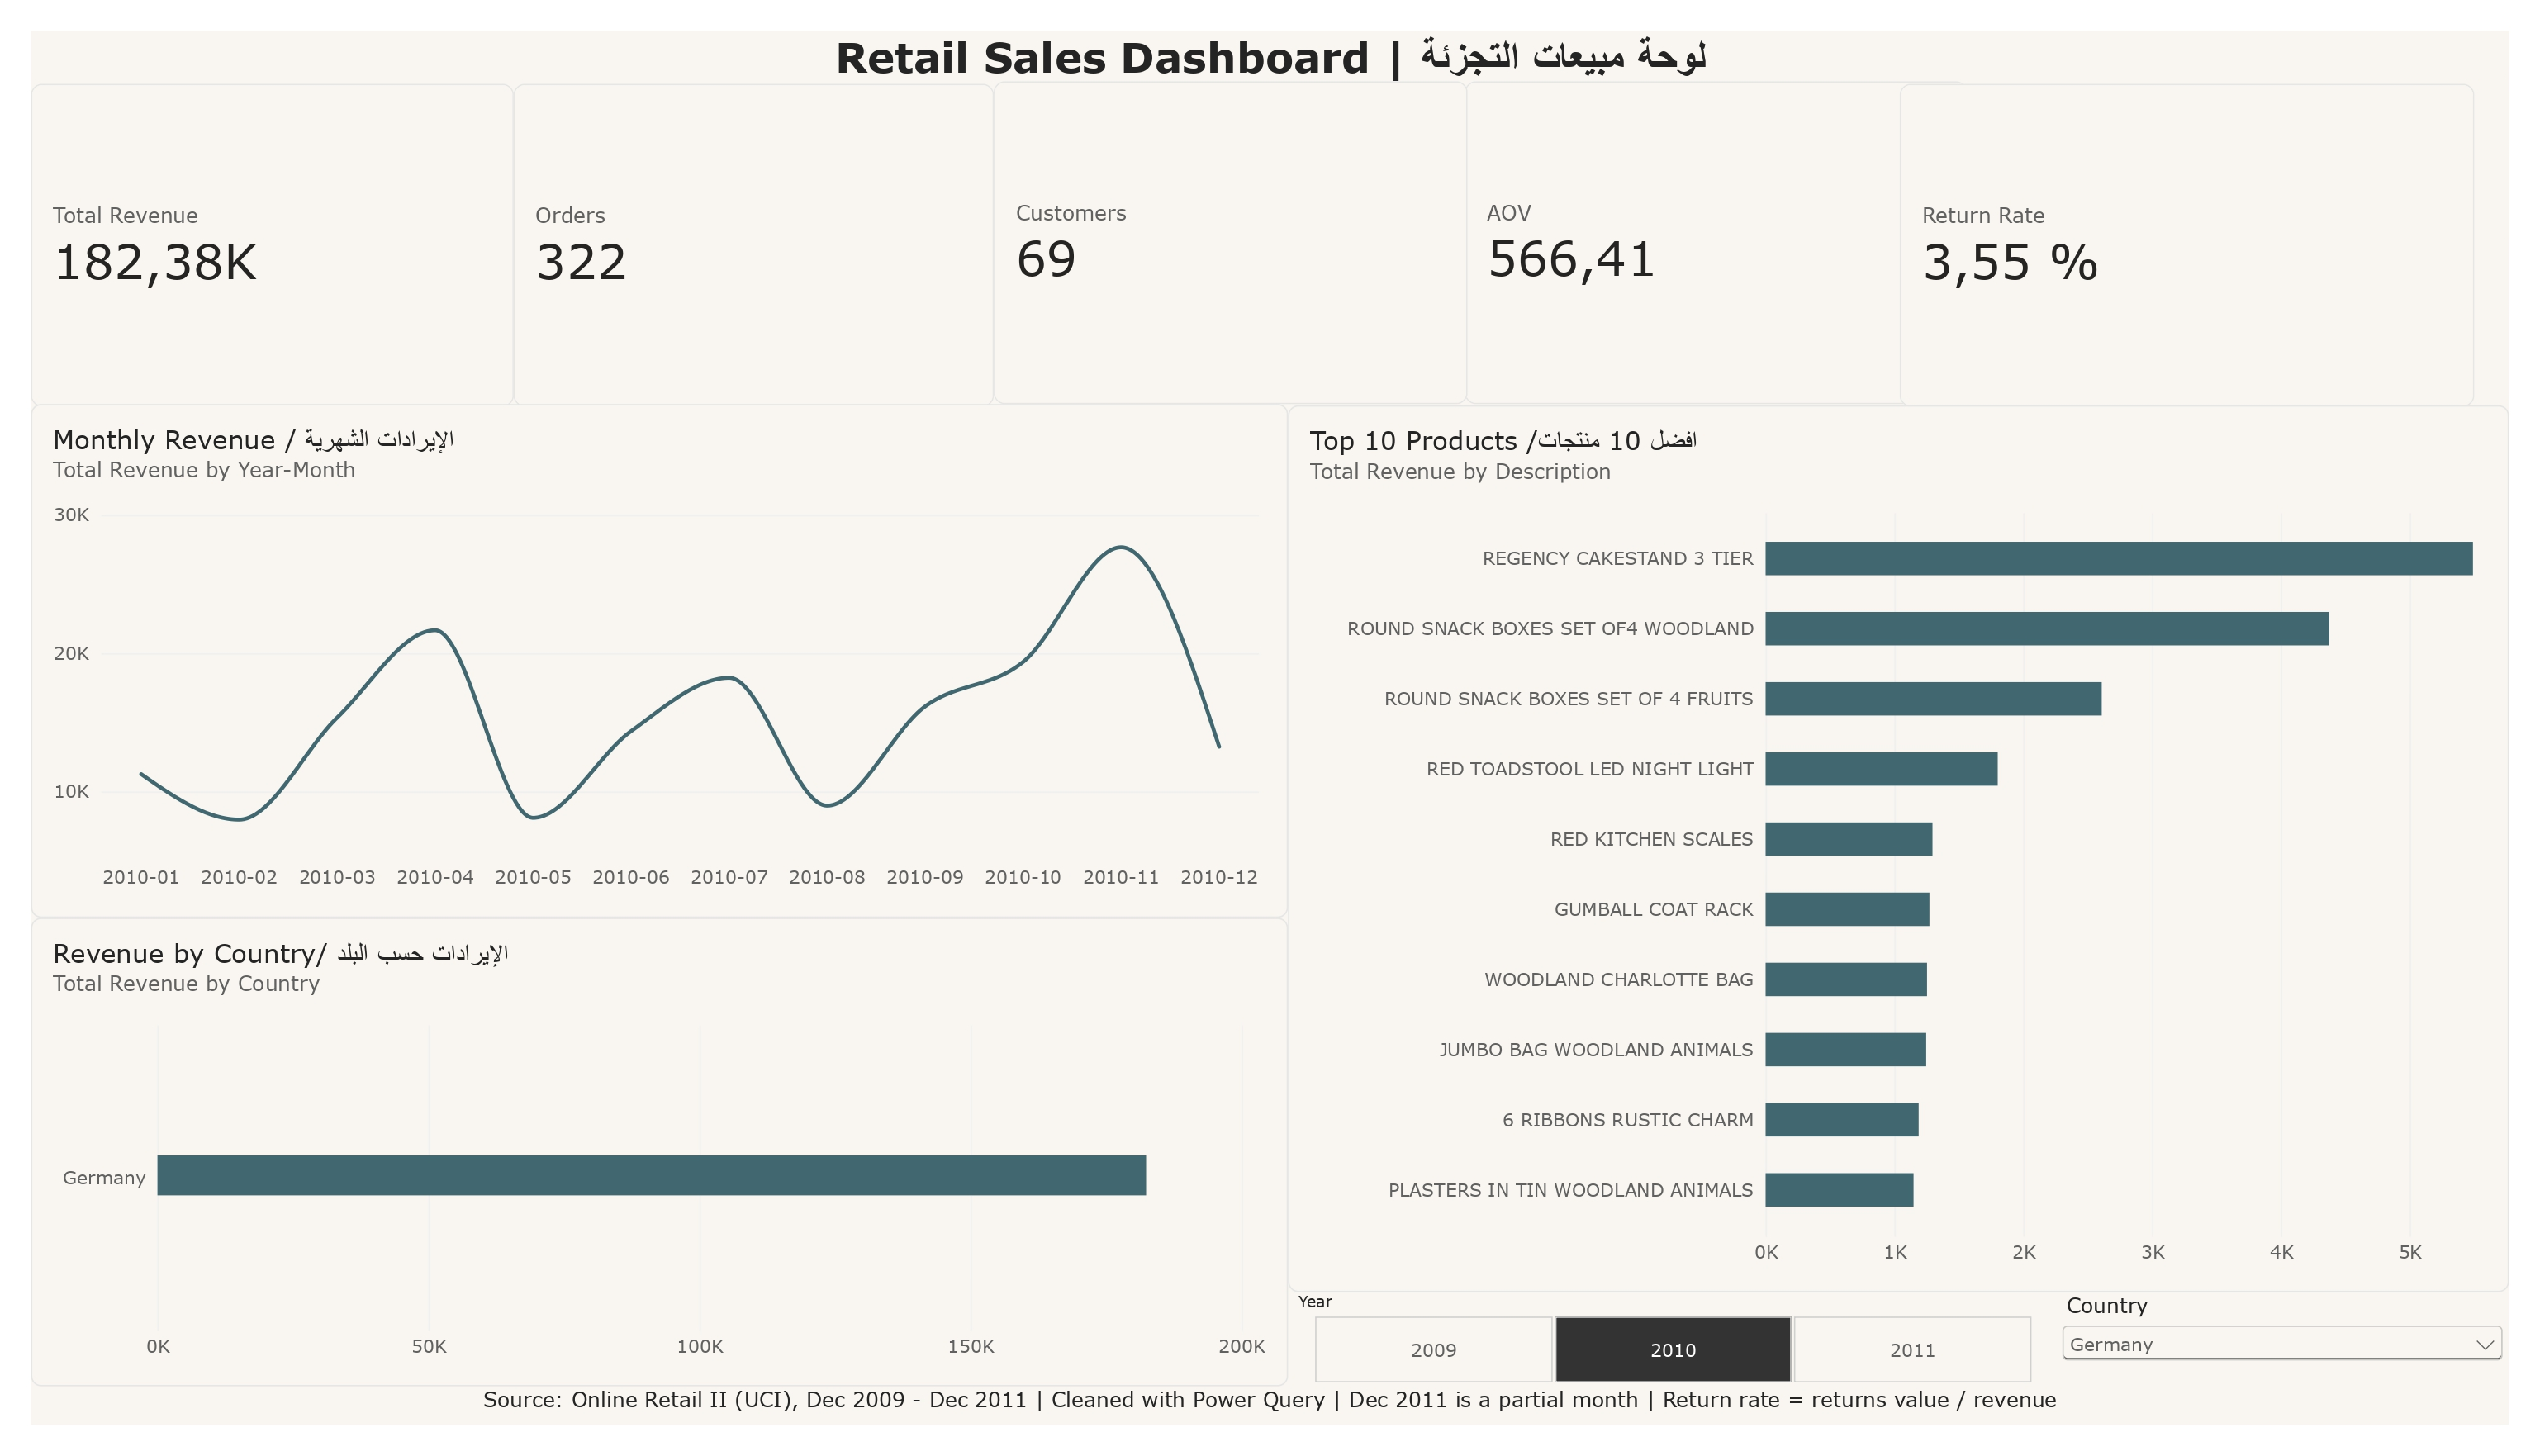

The page's visual inventory and layout, read from the dashboard file:
{"tool":"powerbi","page":{"name":"Sales Overview","canvas":[1920,1080],"ordinal":0},"visuals":[{"type":"cardVisual","fields":{"Data":["clean_retail.Total Revenue"]},"box":[0,41.3,373.9,250],"z":0},{"type":"cardVisual","fields":{"Data":["clean_retail.AOV"]},"box":[1110.9,39.1,389.1,250],"z":1000},{"type":"cardVisual","fields":{"Data":["clean_retail.Customers"]},"box":[745.7,39.1,367.4,250],"z":2000},{"type":"cardVisual","fields":{"Data":["clean_retail.Orders"]},"box":[373.9,41.3,371.7,250],"z":3000},{"type":"cardVisual","fields":{"Data":["returns.Return Rate"]},"box":[1447.8,41.3,445.7,250],"z":4000},{"type":"lineChart","title":"Monthly Revenue / الإيرادات الشهرية","fields":{"Category":["Date.Year-Month"],"Y":["clean_retail.Total Revenue"]},"box":[0,289.1,973.9,397.8],"z":5000},{"type":"clusteredBarChart","title":"Top 10 Products /افضل 10 منتجات","fields":{"Category":["clean_retail.Description"],"Y":["clean_retail.Total Revenue"]},"box":[973.6,289.5,946.5,687.7],"z":6000},{"type":"clusteredBarChart","title":"Revenue by Country/ الإيرادات حسب البلد","fields":{"Category":["Countries.Country"],"Y":["clean_retail.Total Revenue"]},"box":[0,687,973.9,363],"z":7000},{"type":"slicer","fields":{"Values":["Date.Year"]},"box":[974,977,595,72],"z":8000},{"type":"slicer","fields":{"Values":["Countries.Country"]},"box":[1569,977.2,351.1,72.4],"z":9000},{"type":"textbox","box":[0,0,1920.1,41.6],"z":9001},{"type":"textbox","box":[0,1050,1919.6,30.4],"z":9002}]}

Visuals, with their boxes on the page's 1920x1080 design canvas (x1, y1, x2, y2). These are canvas units, not pixel positions in the 2540x1456 screenshot, which may show the page scaled, cropped or inside an application window:
cardVisual - clean_retail.Total Revenue: 0,41,374,291
cardVisual - clean_retail.AOV: 1111,39,1500,289
cardVisual - clean_retail.Customers: 746,39,1113,289
cardVisual - clean_retail.Orders: 374,41,746,291
cardVisual - returns.Return Rate: 1448,41,1894,291
"Monthly Revenue / الإيرادات الشهرية" lineChart: 0,289,974,687
"Top 10 Products /افضل 10 منتجات" clusteredBarChart: 974,290,1920,977
"Revenue by Country/ الإيرادات حسب البلد" clusteredBarChart: 0,687,974,1050
slicer - Date.Year: 974,977,1569,1049
slicer - Countries.Country: 1569,977,1920,1050
textbox: 0,0,1920,42
textbox: 0,1050,1920,1080
